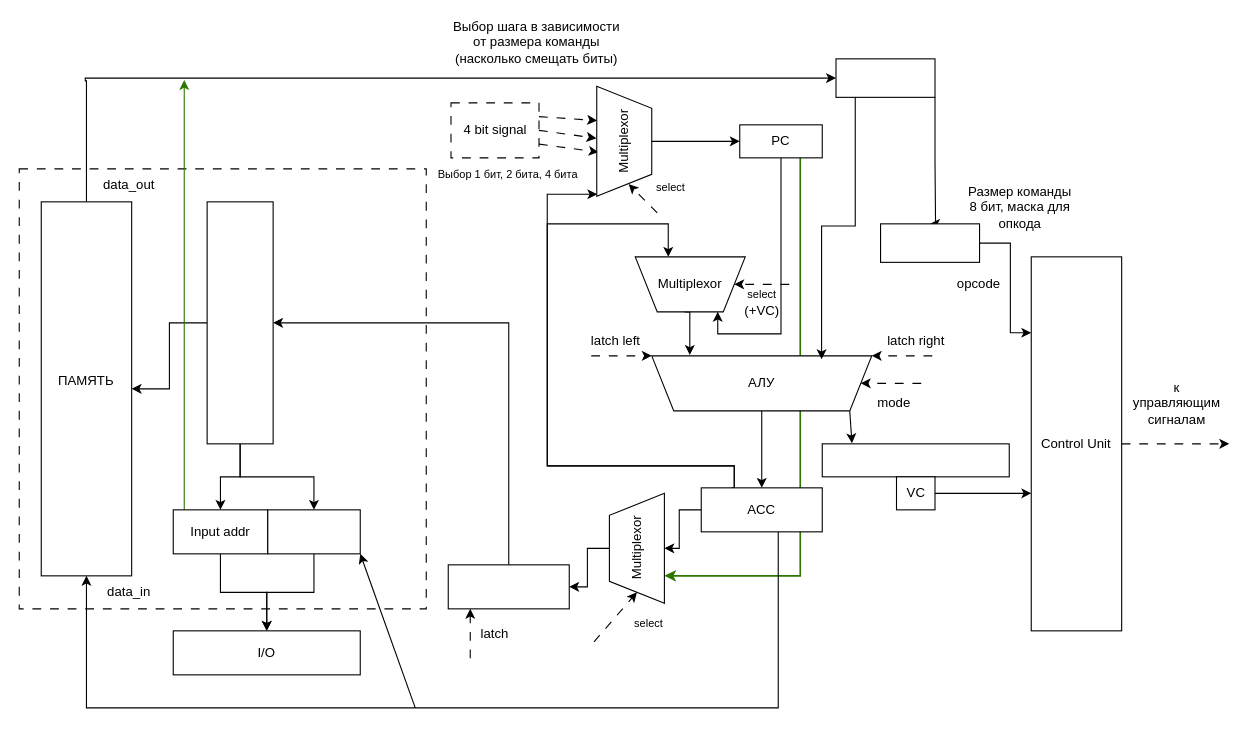
Some shapes in this 1257 by 736 pixel diagram are drawn without their labels. The shapes that lost their labels are listed below. From the top down, each one's centre as x and y in pixels, then its label:
At (x=885, y=77): "DR".
At (x=929, y=242): "0xFF маска".
At (x=239, y=322): "Декодер адреса".
At (x=915, y=460): "Блок выставления флагов".
At (x=313, y=531): "Output addr".
At (x=508, y=586): "AR".
